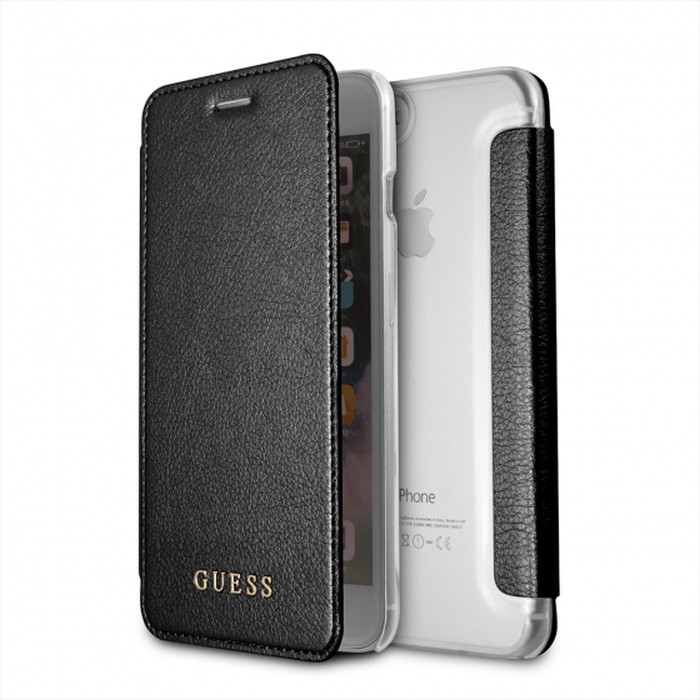Guess: (187, 560, 277, 603)
